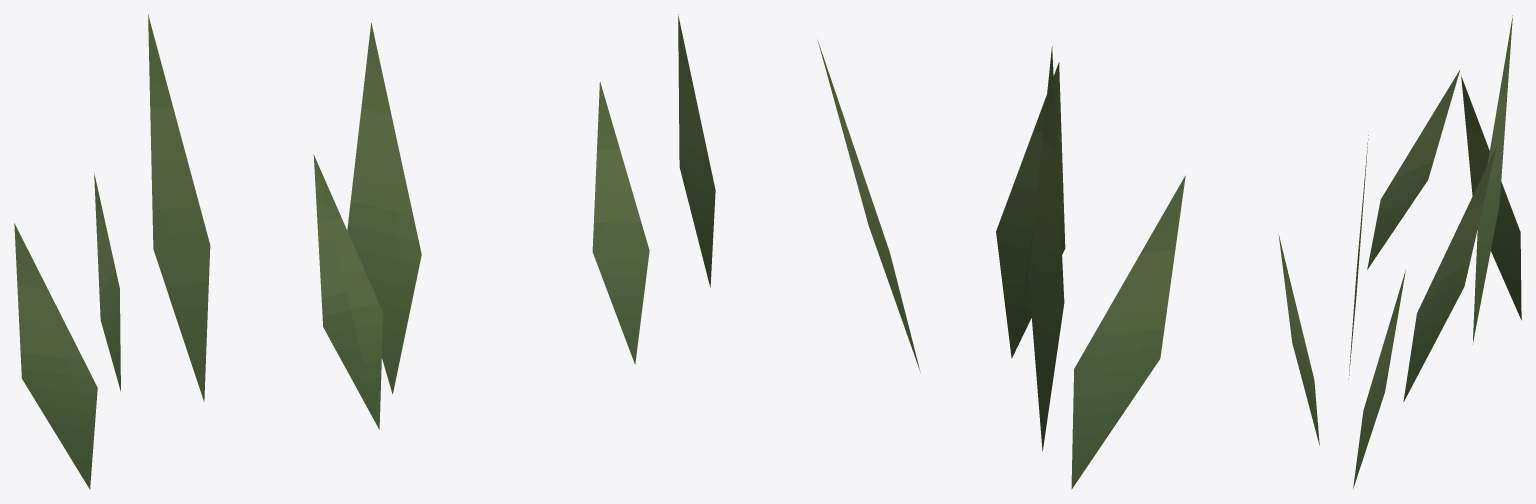
The model's file is plants_me_main_grass13.gltf.
The picture shows the model from 3 angles, left to right: view 1: azimuth 30°, elevation 25°; view 2: azimuth 150°, elevation 25°; view 3: azimuth 270°, elevation 25°; orthographic projection. The views are drawn at different scales.
Visible parts, largest first — view 1: um_plants_me_main_grass13_model_plants_me_main_grass13_model; view 2: um_plants_me_main_grass13_model_plants_me_main_grass13_model; view 3: um_plants_me_main_grass13_model_plants_me_main_grass13_model.
Part boxes in pixels (bbox=[...]): um_plants_me_main_grass13_model_plants_me_main_grass13_model: bbox=[14, 14, 649, 489]; um_plants_me_main_grass13_model_plants_me_main_grass13_model: bbox=[678, 14, 1319, 489]; um_plants_me_main_grass13_model_plants_me_main_grass13_model: bbox=[1348, 15, 1521, 488].
Size of the model in its own units: 0.5503 by 0.3383 by 0.1672.
Materials: 1 (1 with a texture image).
